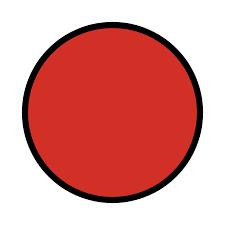red_circle: (12, 14, 211, 211)
